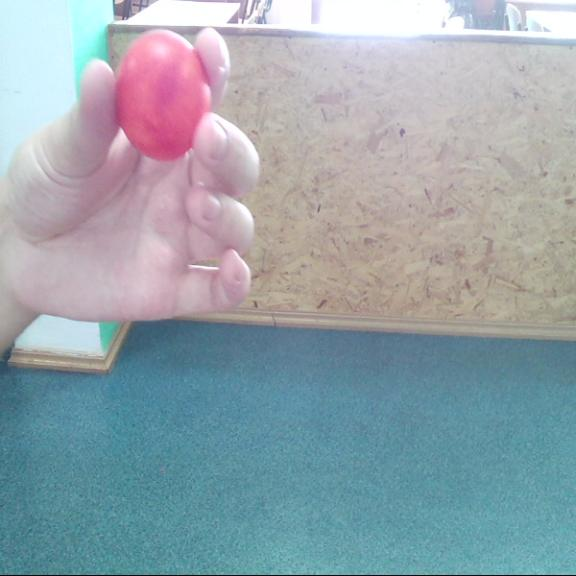ball: (109, 26, 213, 162)
